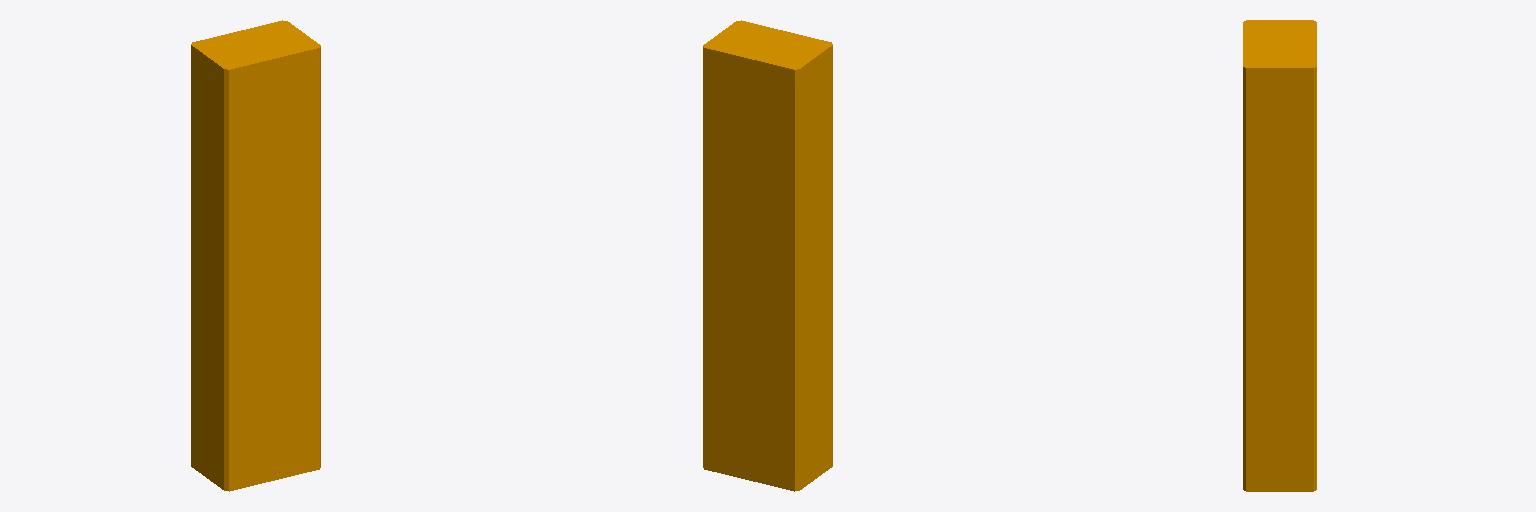
The robot description file, URDF, robot "factory_rectangular_peg_12mm_tight":
<?xml version="1.0"?>
<robot name="factory_rectangular_peg_12mm_tight">
    <link name="factory_rectangular_peg_12mm_tight">
        <visual>
            <geometry>
                <mesh filename="../mesh/factory_insertion/factory_rectangular_peg_12mm_tight_subdiv_3x.obj"/>
            </geometry>
        </visual>
        <collision>
            <geometry>
                <mesh filename="../mesh/factory_insertion/factory_rectangular_peg_12mm_tight_subdiv_3x.obj"/>
            </geometry>
            <!-- sdf resolution="256"-->
        </collision>
    </link>
</robot>

--- Facts derived from the render (not from the file) ---
The picture shows the robot from 3 angles, left to right: view 1: azimuth 30°, elevation 25°; view 2: azimuth 150°, elevation 25°; view 3: azimuth 270°, elevation 25°; orthographic projection.
Robot: factory_rectangular_peg_12mm_tight — 1 links, 0 joints (none); root link factory_rectangular_peg_12mm_tight; default pose: every joint at zero.
Links seen in each view (by area): view 1: factory_rectangular_peg_12mm_tight; view 2: factory_rectangular_peg_12mm_tight; view 3: factory_rectangular_peg_12mm_tight.
Boxes of the visible links, box(x1,y1,x2,y2) form: factory_rectangular_peg_12mm_tight: box(191, 20, 320, 491); factory_rectangular_peg_12mm_tight: box(703, 20, 832, 491); factory_rectangular_peg_12mm_tight: box(1243, 20, 1316, 491).
Bounding box of the posed robot: 0.012 × 0.008 × 0.05 m (x, y, z).
Meshes: 1 distinct files referenced, 1 mesh visuals loaded (1 OBJ).
